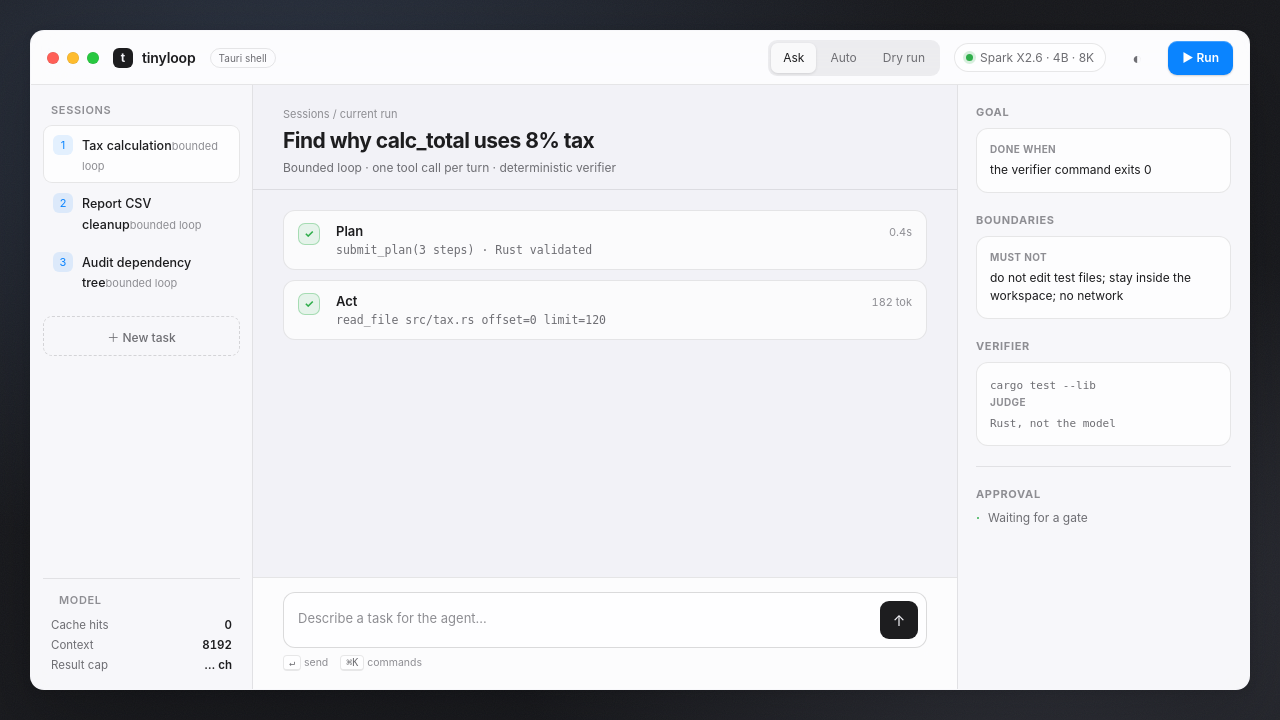
Test case: tinyloop desktop shell (browser preview) › requires the clarify contract before running
The width and height of the screenshot is (1280, 720).
Click the button with test id "run-button" at (1201, 58), box 1168,40 -> 1233,74
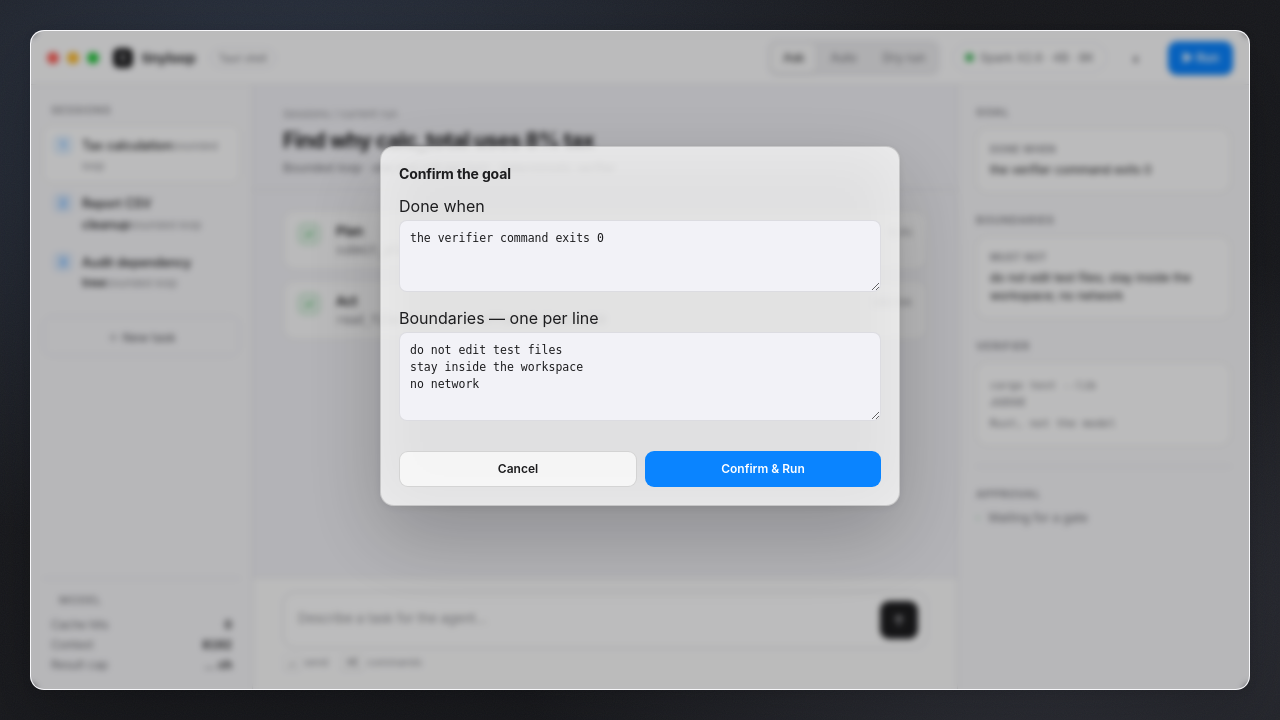
expect the heading "Confirm the goal" is shown: met, box 399,165 -> 511,182
Click the button with test id "clarify-confirm" at (763, 469), box 645,451 -> 881,487
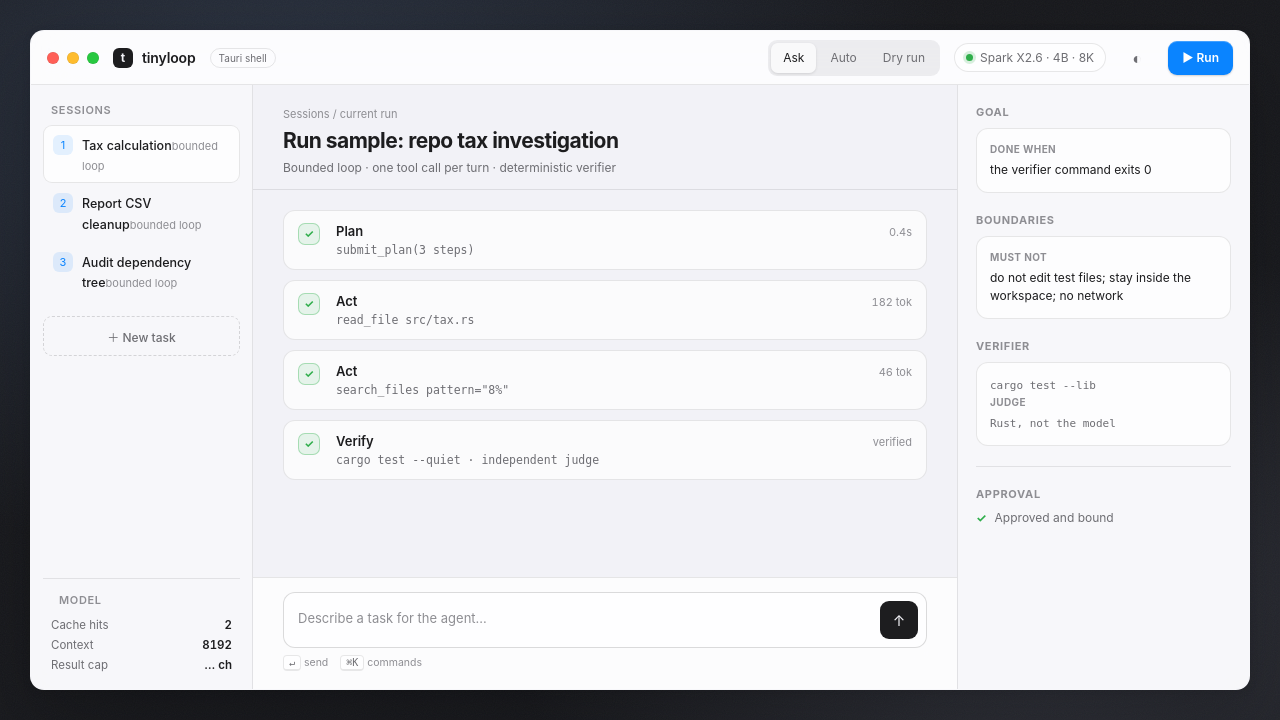
expect the text "Verify" is shown: met, box 336,433 -> 374,449
expect the text "Approved and bound" is shown: met, box 995,510 -> 1114,525
